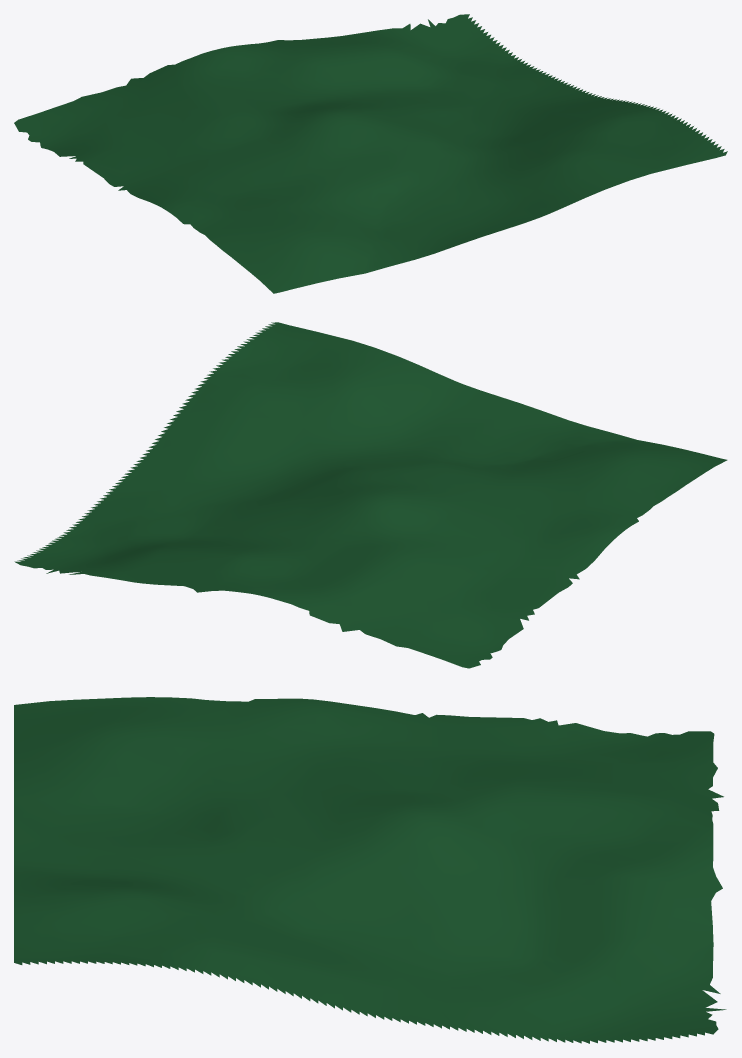
The model's file is payo_land_x2_ym3_lod1.glb.
The picture shows the model from 3 angles, top to bottom: view 1: azimuth 30°, elevation 25°; view 2: azimuth 150°, elevation 25°; view 3: azimuth 270°, elevation 25°; orthographic projection. The views are drawn at different scales.
Parts seen in each view (by area): view 1: payo_land_x2_ym3; view 2: payo_land_x2_ym3; view 3: payo_land_x2_ym3.
Boxes of the visible parts, x1,y1,x2,y2 form: payo_land_x2_ym3: [14, 14, 727, 293]; payo_land_x2_ym3: [14, 322, 727, 668]; payo_land_x2_ym3: [14, 697, 726, 1043].
Bounding box in the file's own units: 260 × 32.48 × 260.
